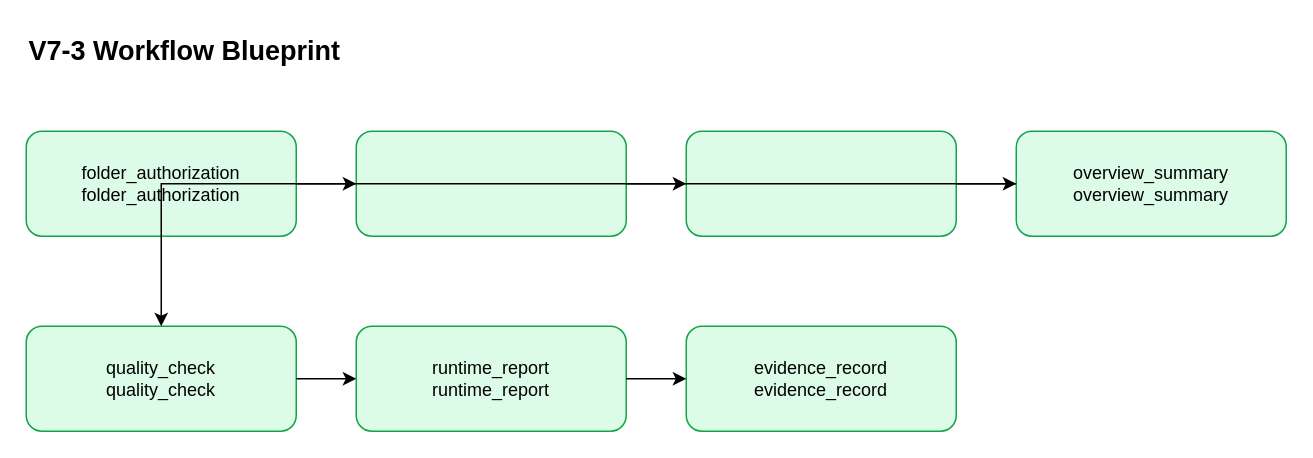
This 1313x458 diagram has some shape labels left out. The shapes that lost their labels are listed below. From the top down, each one's box as (x1, y1, x2, y2) in pixels, then its label:
(355, 130, 626, 236): markdown_scan markdown_scan
(685, 130, 956, 236): per_folder_summary per_folder_summary
